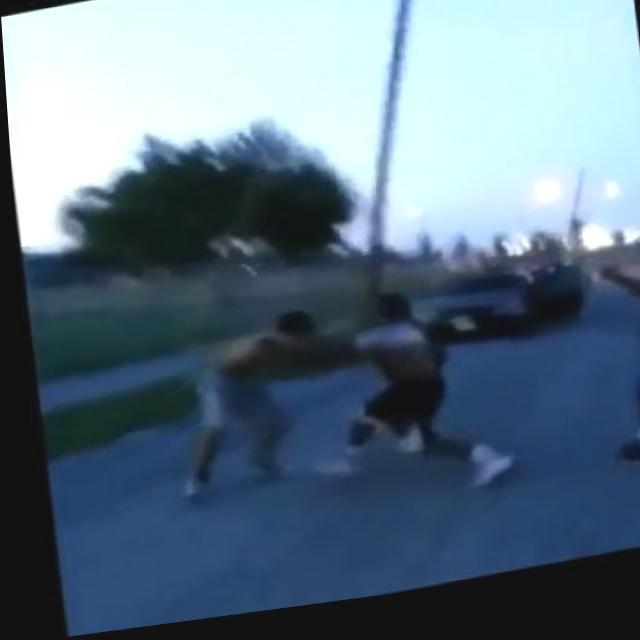fight: (151, 284, 492, 512)
